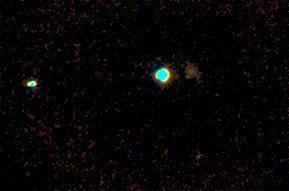star: (185, 142, 215, 172)
